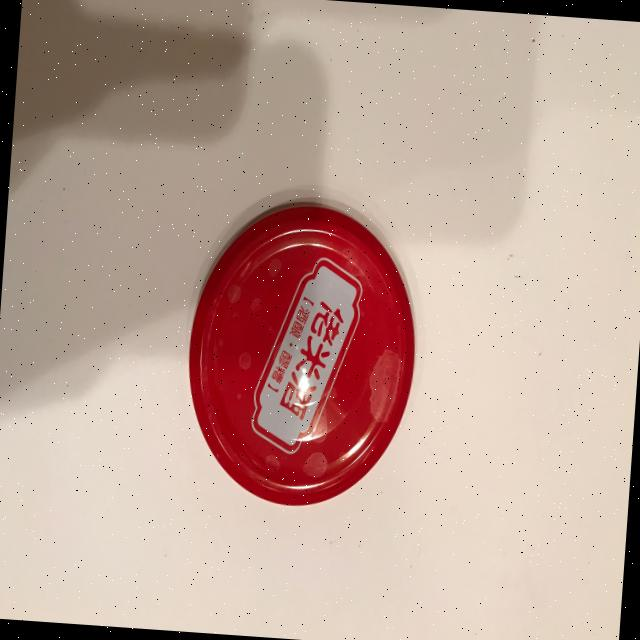metal: (178, 189, 426, 514)
